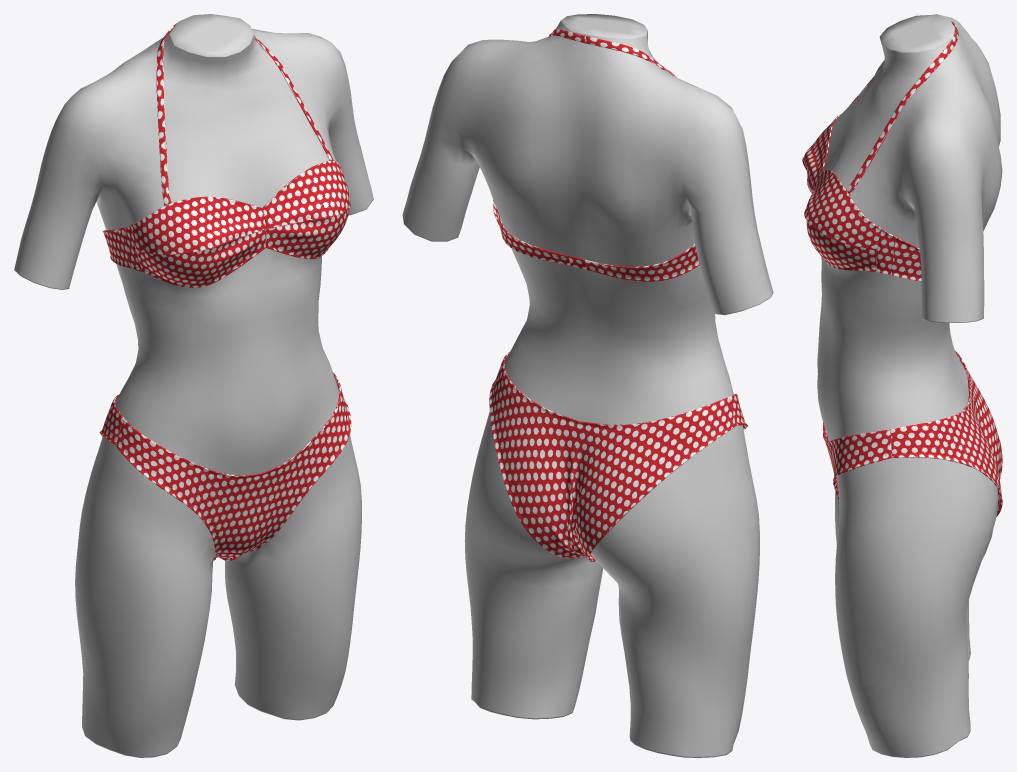
The model's file is Swimsuit_A_01.gltf.
3 views of the same model, side by side, from view 1: azimuth 30°, elevation 25°; view 2: azimuth 150°, elevation 25°; view 3: azimuth 270°, elevation 25° (orthographic). The views are drawn at different scales.
Visible parts, largest first — view 1: AvatarMujer_quads, Swimsuit_A_01_Main; view 2: AvatarMujer_quads, Swimsuit_A_01_Main; view 3: AvatarMujer_quads, Swimsuit_A_01_Main.
Boxes of the visible parts, <box> form: AvatarMujer_quads: <box>14,14,373,757</box>; Swimsuit_A_01_Main: <box>99,18,351,560</box>; AvatarMujer_quads: <box>402,14,773,757</box>; Swimsuit_A_01_Main: <box>489,29,747,561</box>; AvatarMujer_quads: <box>817,14,1002,757</box>; Swimsuit_A_01_Main: <box>802,21,1002,516</box>.
Size of the model in its own units: 0.521 by 0.9796 by 0.2616.
Materials: 2 (1 with a texture image).
